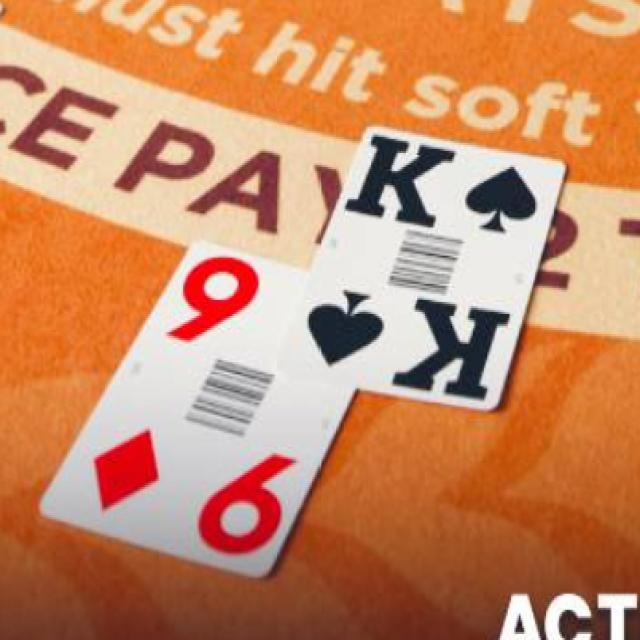Card-9: (40, 235, 356, 575)
Card-K: (277, 123, 567, 409)
